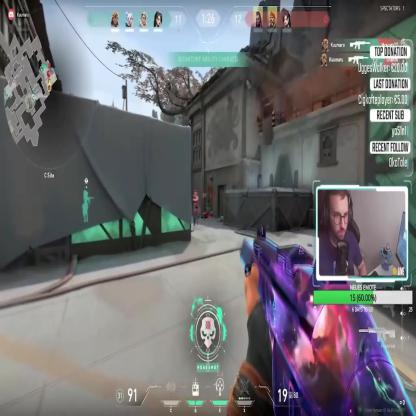enemy: (192, 190, 200, 229)
enemy_head: (194, 190, 197, 196)
